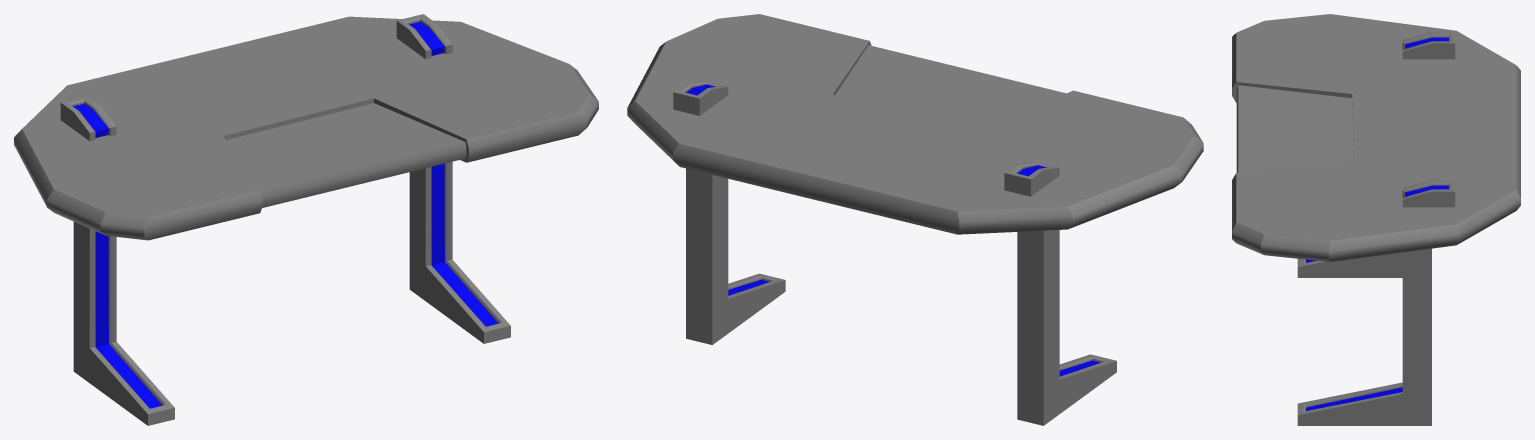
File: desk.glb
3 renders of one model, left to right at view 1: azimuth 30°, elevation 25°; view 2: azimuth 150°, elevation 25°; view 3: azimuth 270°, elevation 25°, orthographic. The views are drawn at different scales.
Visible parts, largest first — view 1: desk; view 2: desk; view 3: desk.
Part boxes in pixels (x1,y1,x2,y2): desk: [14, 14, 598, 425]; desk: [627, 14, 1203, 425]; desk: [1232, 14, 1520, 425].
Bounding box in the file's own units: 1.75 × 0.8191 × 0.9141.
